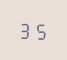five: (33, 20, 46, 40)
three: (19, 19, 32, 39)
